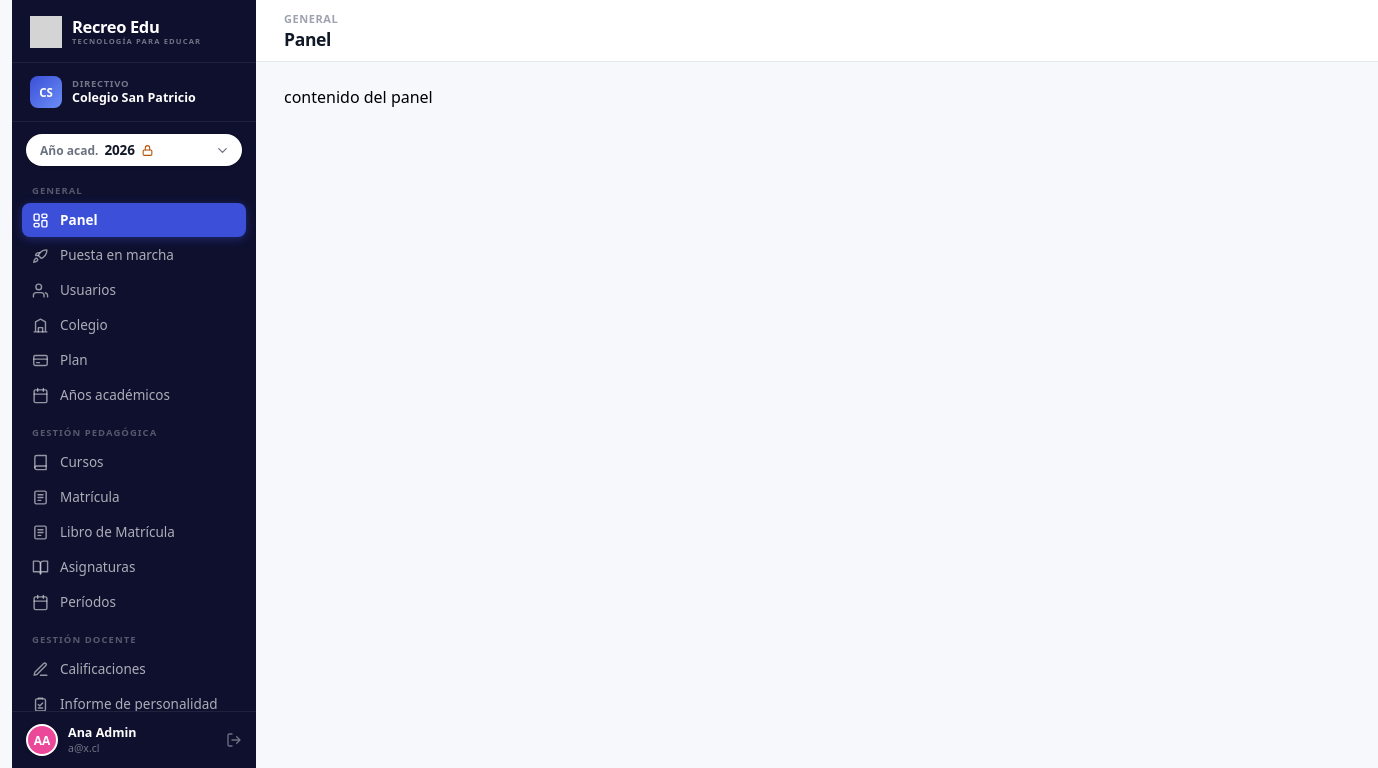
Test case: "Gestionar años…" lleva a /anios
This screenshot has width=1378, height=768.
Click the button "Año acad. 2026": click(134, 150) [26,134,242,166]
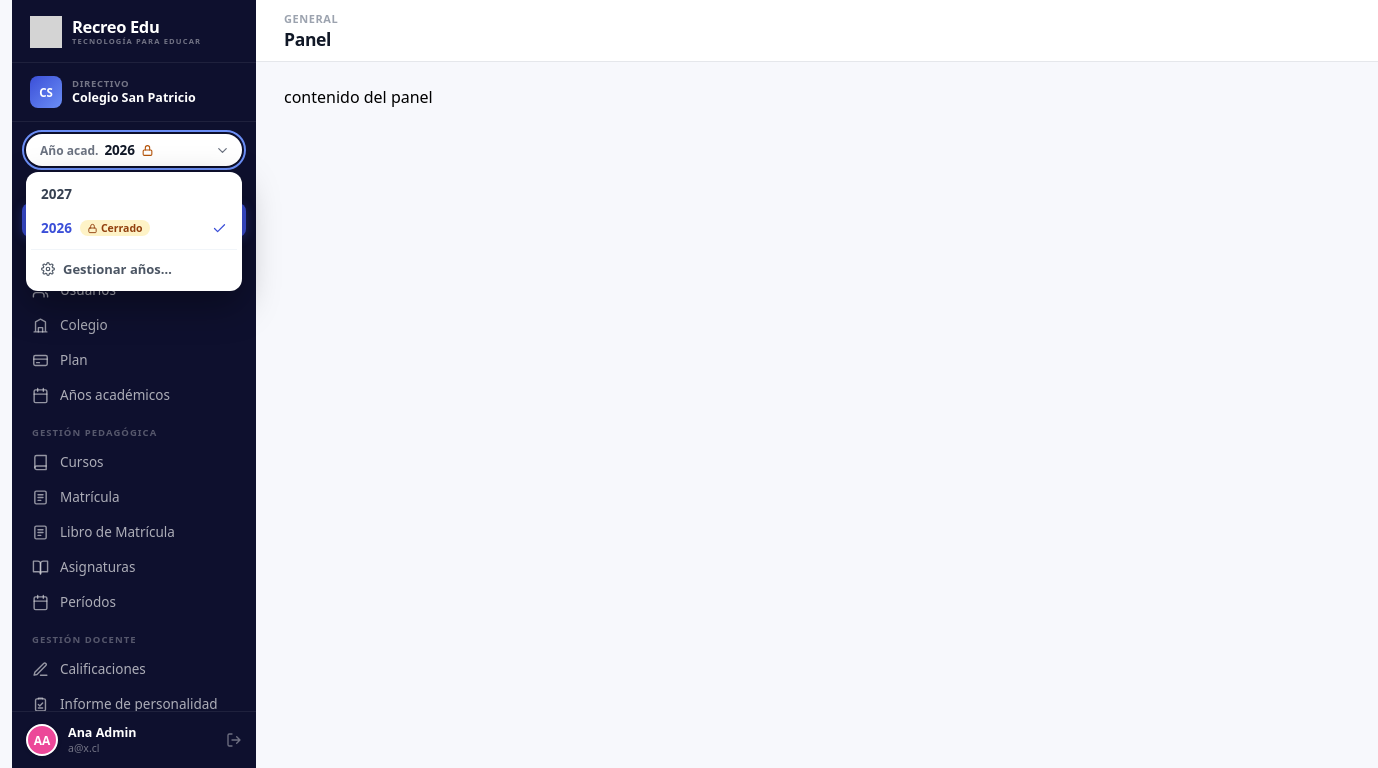
Click the button "Gestionar años…": click(134, 268) [31,249,237,286]
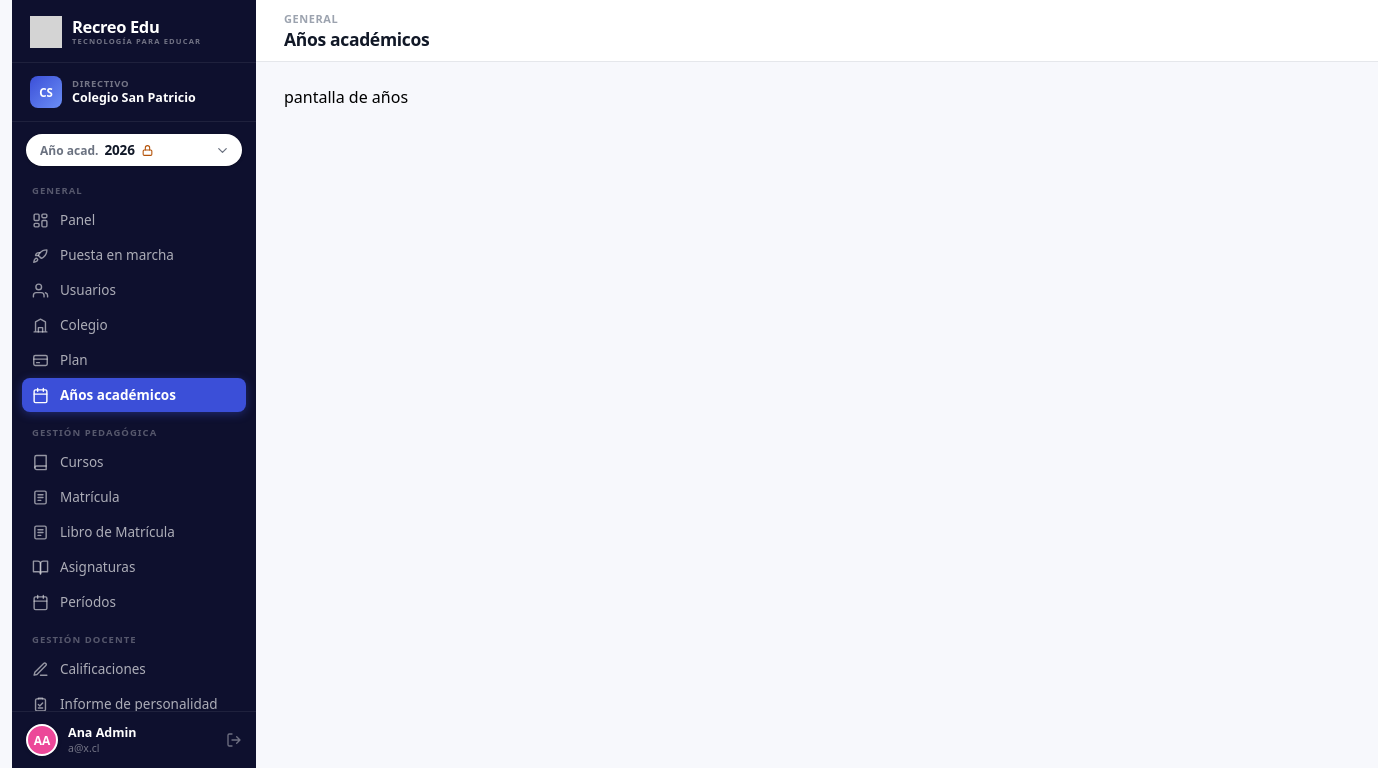
Now the text "pantalla de años" is shown, box [284,86,408,108]
